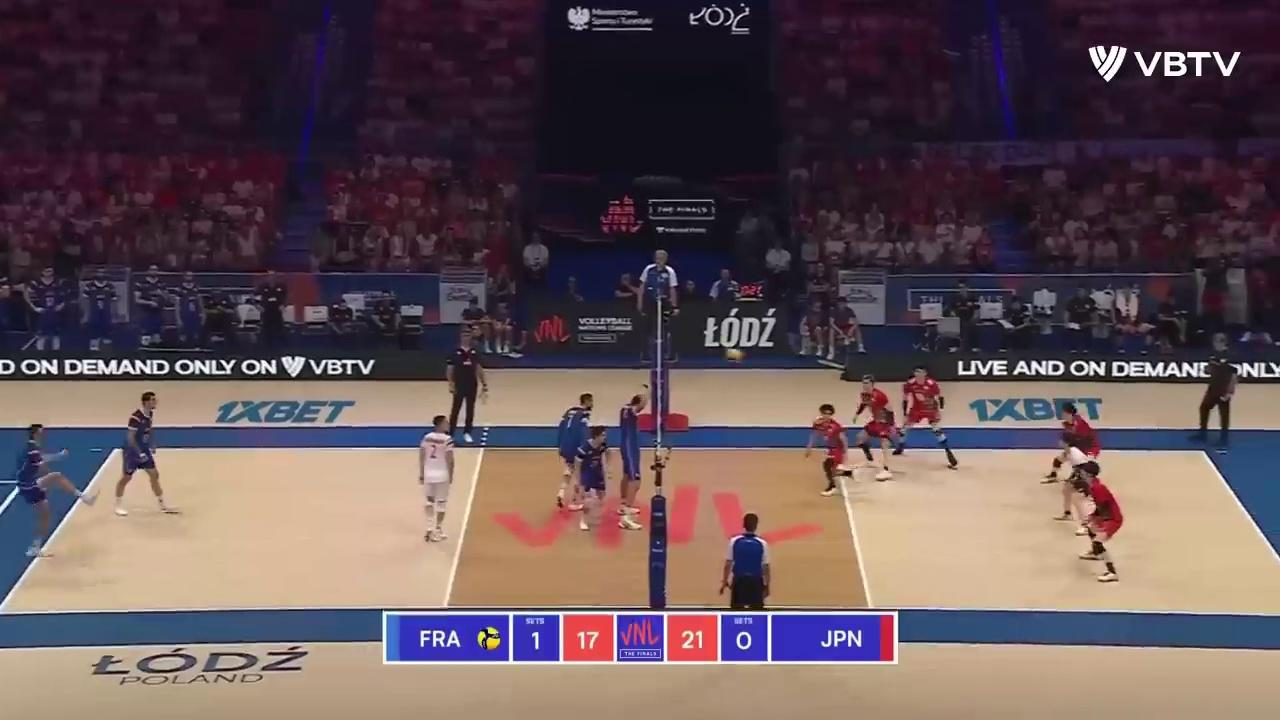ball: (724, 348, 742, 363)
